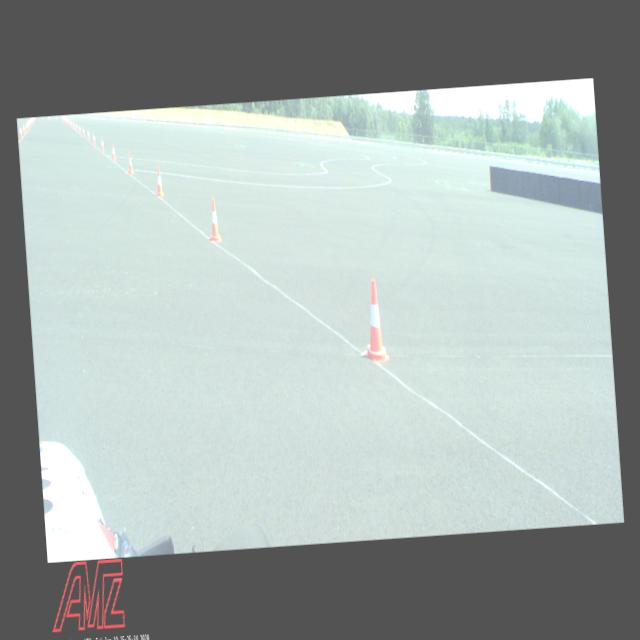orange_cone: (358, 278, 388, 365), (206, 197, 222, 242), (154, 167, 164, 197), (126, 152, 134, 174), (110, 142, 116, 160), (99, 138, 104, 152), (18, 124, 22, 138), (92, 132, 96, 145), (86, 128, 90, 140), (22, 122, 25, 134), (82, 126, 85, 136), (25, 122, 28, 132), (78, 124, 81, 133)
